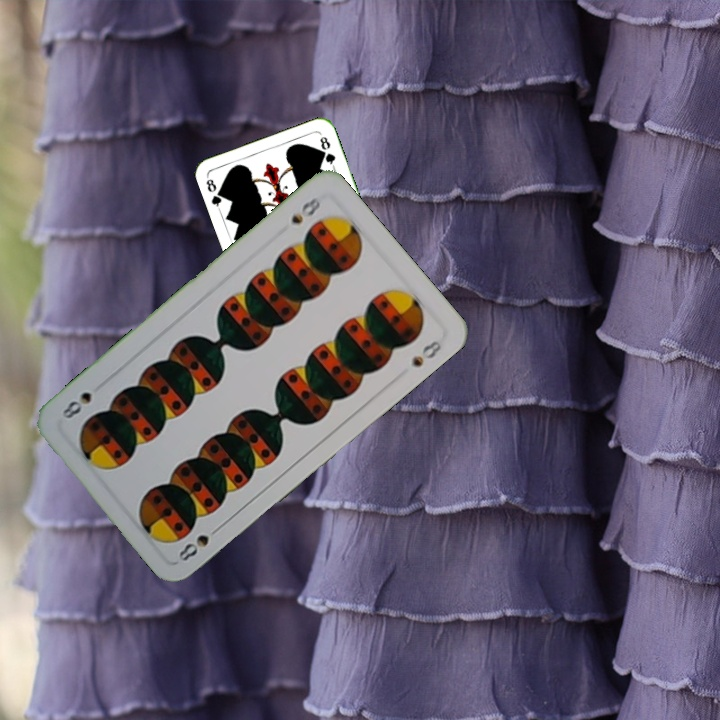G8: (202, 173, 227, 213)
S8: (174, 530, 212, 564), (287, 193, 323, 227)
